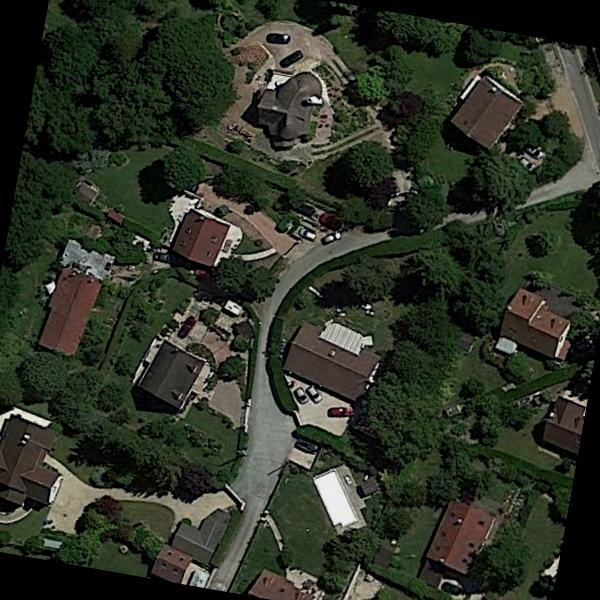Buildings: (38, 247, 106, 355), (248, 61, 327, 152), (282, 320, 372, 399), (156, 506, 228, 590), (444, 70, 525, 143), (136, 335, 207, 415), (0, 426, 66, 512), (498, 297, 577, 364), (163, 206, 236, 271), (435, 501, 490, 574), (312, 471, 368, 529), (242, 565, 313, 600), (540, 402, 586, 456)
